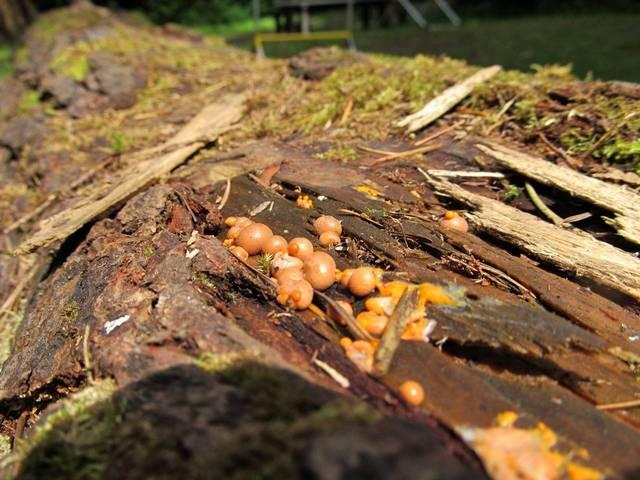poisonous_mushroom: (223, 215, 337, 310), (302, 250, 336, 289), (235, 221, 272, 254), (276, 277, 313, 310), (347, 265, 376, 296), (397, 379, 425, 406), (438, 209, 468, 233), (312, 213, 342, 235), (287, 235, 313, 259), (261, 234, 287, 257)
